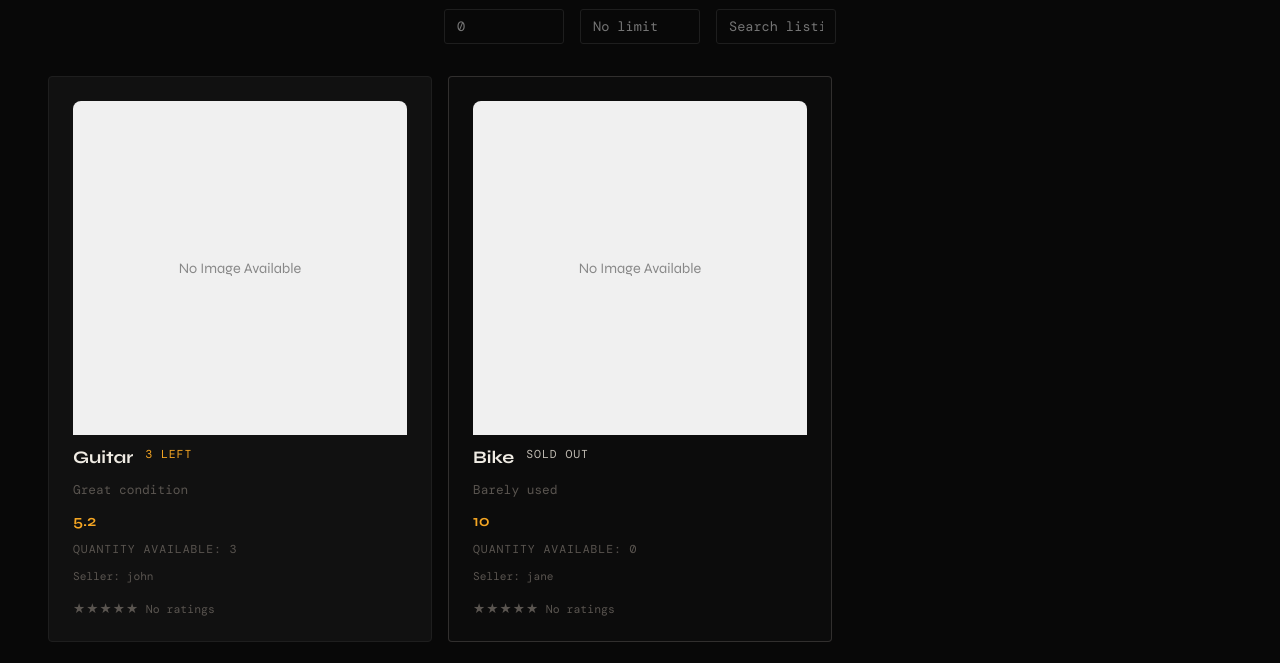
Listings › adds an item to wishlist from the modal for a logged-in user
(page scrolled)
Expected: the text "Guitar" is shown, x1=73 y1=447 x2=133 y2=468
What coordinates should you click on to do the following:
click the button with aria-label "view details for guitar"
I would click on:
 (240, 359)
Its box is x1=48 y1=76 x2=432 y2=642.
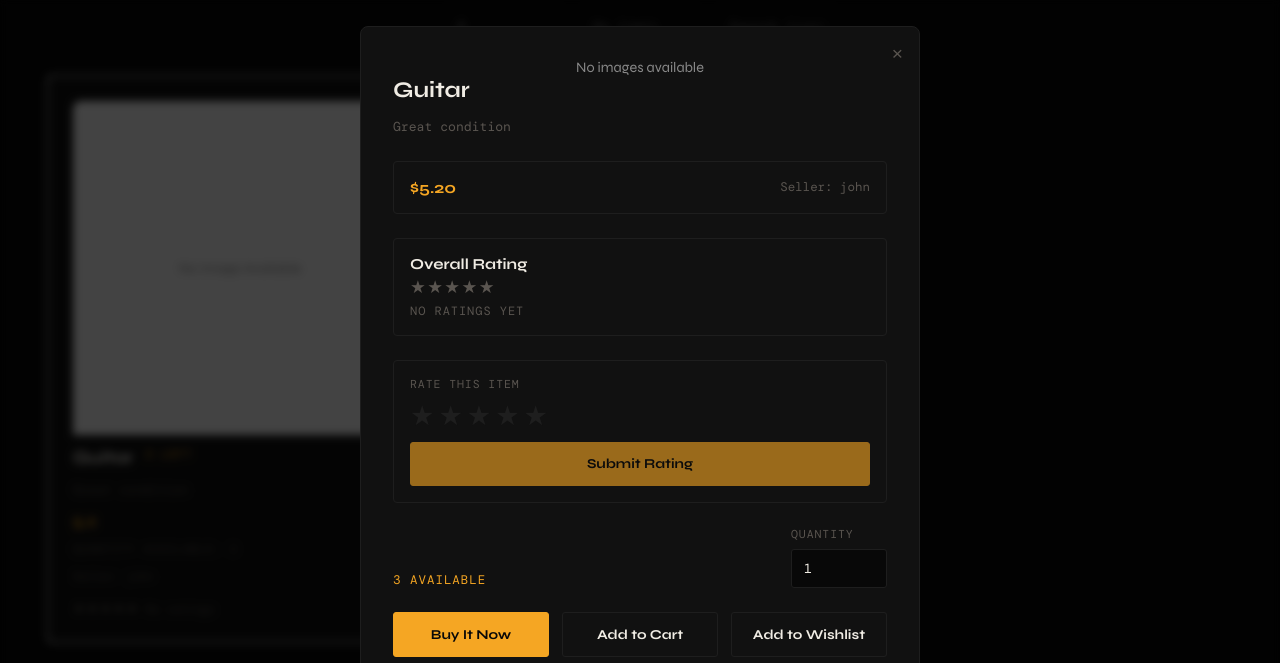
What coordinates should you click on to do the following:
click the button "Add to Wishlist"
I would click on:
 (809, 635)
Its box is x1=731 y1=612 x2=887 y2=657.
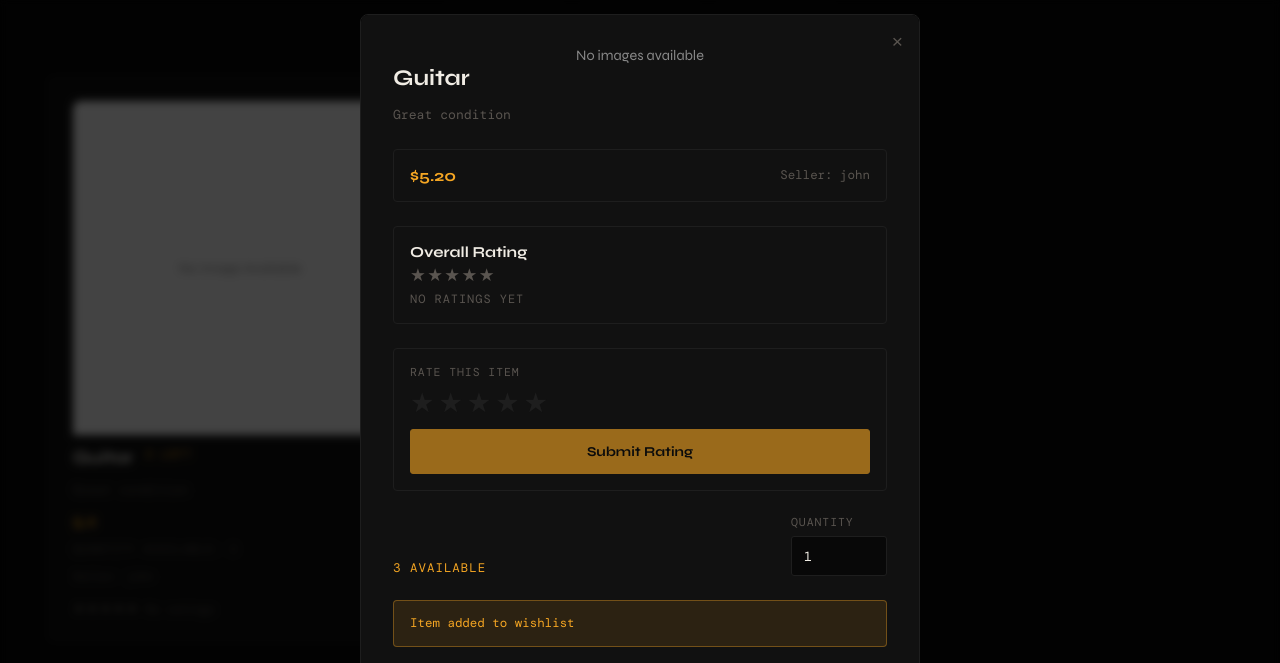
Expected: the text "Item added to wishlist" is shown, x1=393 y1=600 x2=887 y2=646
